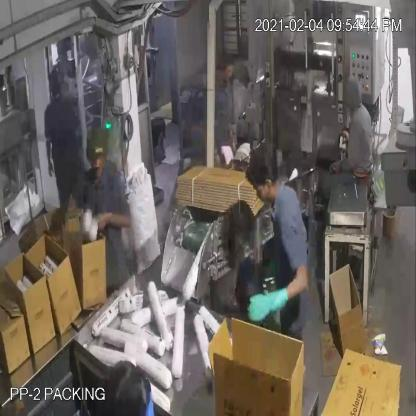glove: (242, 282, 295, 330)
no_glove: (88, 196, 140, 245), (40, 128, 60, 189)
